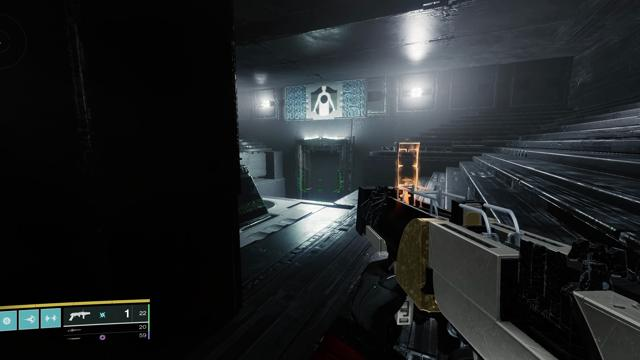grief: (311, 86, 337, 115)
